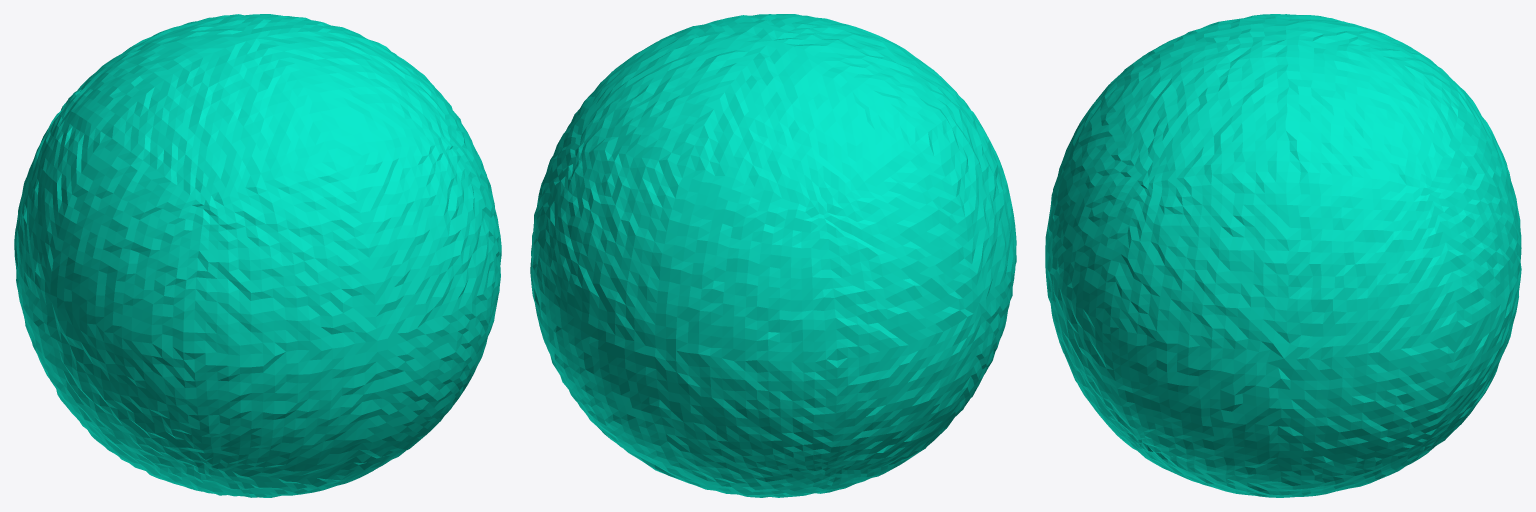
The model's file is Sea17.fbx.
3 views of the same model, side by side, from view 1: azimuth 30°, elevation 25°; view 2: azimuth 150°, elevation 25°; view 3: azimuth 270°, elevation 25° (orthographic).
Visible parts, largest first — view 1: pCube1; view 2: pCube1; view 3: pCube1.
Boxes of the visible parts, <box> form: pCube1: <box>14,14,501,497</box>; pCube1: <box>530,14,1016,497</box>; pCube1: <box>1045,14,1521,497</box>.
Size of the model in its own units: 40.09 by 40.06 by 40.02.
